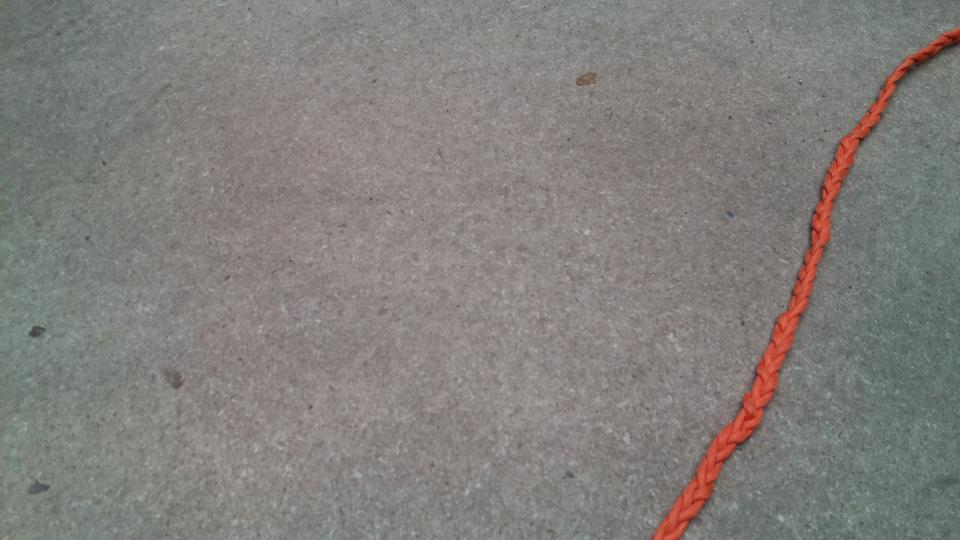rope: (644, 24, 960, 539)
